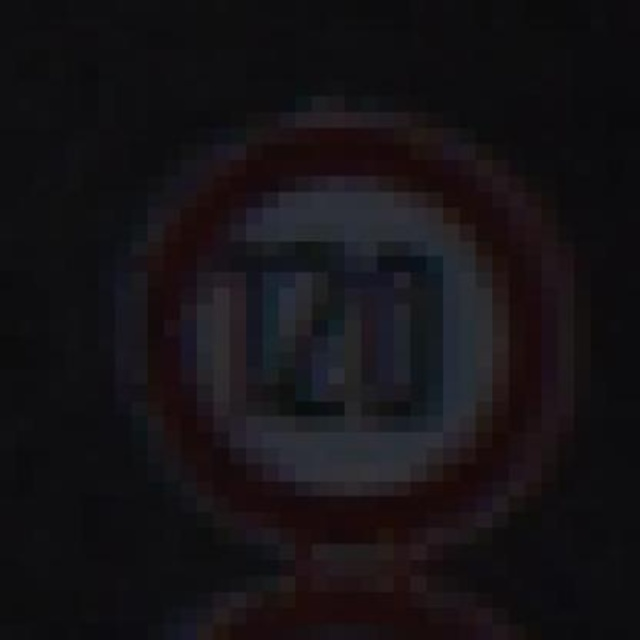Tốc độ tối đa cho phép 120km/h: (140, 127, 556, 557)
